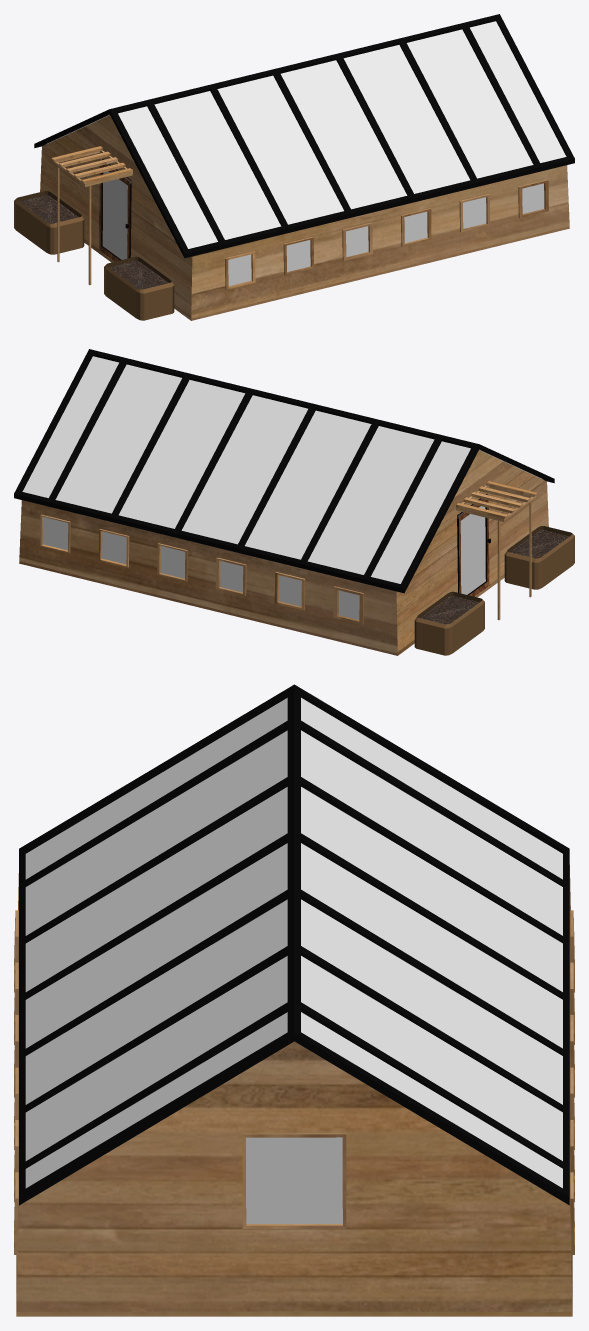
File: Greenhouse6.fbx
The picture shows the model from 3 angles, top to bottom: view 1: azimuth 30°, elevation 25°; view 2: azimuth 150°, elevation 25°; view 3: azimuth 270°, elevation 25°; orthographic projection. The views are drawn at different scales.
Parts seen in each view (by area): view 1: roof_windows, greenhousebody, Roof, roof_bars, Windows, Plant_bed2, plant_bed, front_topper, doorWindow, Door; view 2: roof_windows, greenhousebody, Roof, roof_bars, Windows, plant_bed, Plant_bed2, front_topper, doorWindow, Door; view 3: roof_windows, greenhousebody, roof_bars, Roof, Windows.
Boxes of the visible parts, x1=… form: roof_windows: x1=46, y1=21, x2=566, y2=248; greenhousebody: x1=40, y1=115, x2=569, y2=320; Roof: x1=34, y1=14, x2=574, y2=258; roof_bars: x1=147, y1=25, x2=539, y2=241; Windows: x1=228, y1=183, x2=544, y2=285; Plant_bed2: x1=104, y1=256, x2=174, y2=320; plant_bed: x1=14, y1=191, x2=84, y2=254; front_topper: x1=51, y1=146, x2=132, y2=285; doorWindow: x1=102, y1=171, x2=127, y2=259; Door: x1=99, y1=159, x2=131, y2=261; roof_windows: x1=22, y1=356, x2=542, y2=583; greenhousebody: x1=19, y1=450, x2=548, y2=655; Roof: x1=14, y1=349, x2=554, y2=593; roof_bars: x1=49, y1=360, x2=441, y2=576; Windows: x1=43, y1=517, x2=359, y2=619; plant_bed: x1=414, y1=591, x2=484, y2=655; Plant_bed2: x1=504, y1=526, x2=574, y2=589; front_topper: x1=456, y1=481, x2=537, y2=620; doorWindow: x1=460, y1=506, x2=485, y2=594; Door: x1=457, y1=494, x2=490, y2=596; roof_windows: x1=25, y1=697, x2=562, y2=1188; greenhousebody: x1=14, y1=865, x2=574, y2=1316; roof_bars: x1=25, y1=720, x2=562, y2=1168; Roof: x1=19, y1=684, x2=569, y2=1205; Windows: x1=246, y1=1137, x2=342, y2=1223.
Bounding box in the file's own units: 5546 × 1932 × 3404.
